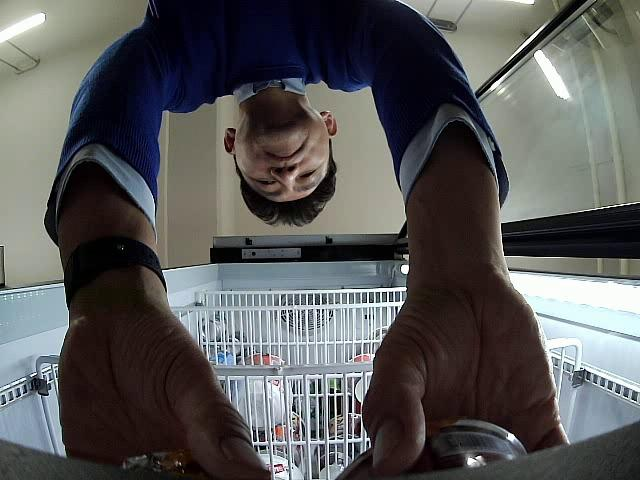00_hand: (362, 254, 570, 479), (58, 312, 274, 479)
06_nuguri_S: (336, 422, 530, 480)
